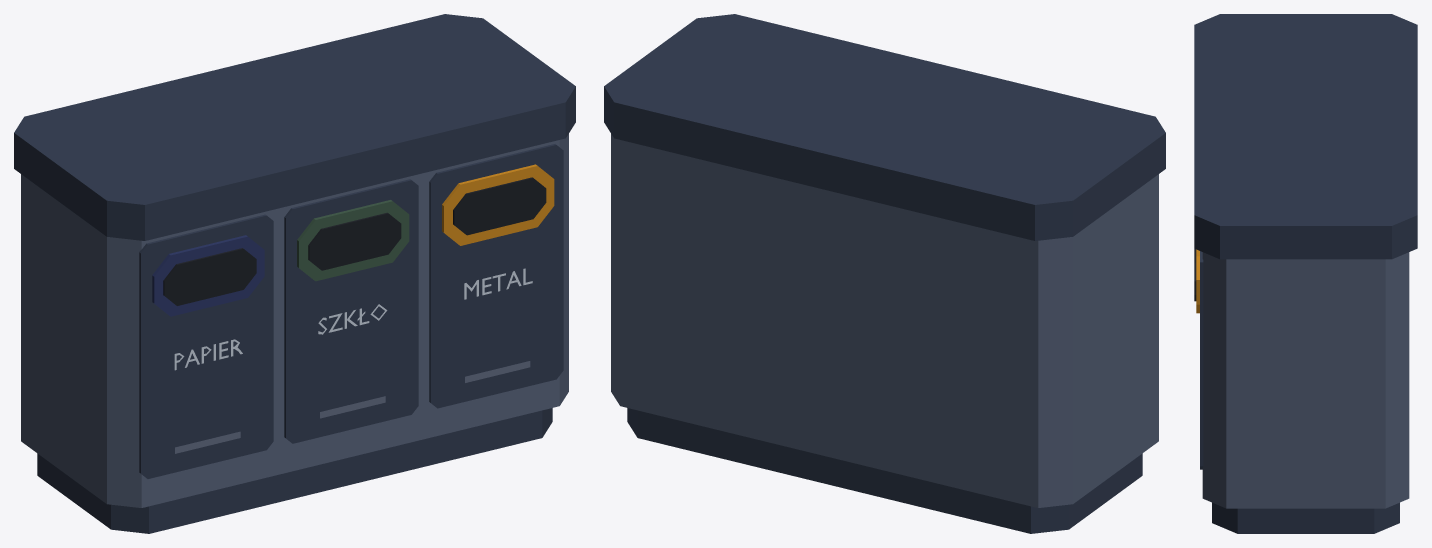
File: mall_trash_bin.glb
3 views of the same model, side by side, from view 1: azimuth 30°, elevation 25°; view 2: azimuth 150°, elevation 25°; view 3: azimuth 270°, elevation 25° (orthographic). The views are drawn at different scales.
Visible parts, largest first — view 1: bin_door, steel_shell, deposit_slot, deposit_rim, deposit_rim.001, deposit_rim.002, lettering, hinge; view 2: steel_shell, bin_door; view 3: bin_door, steel_shell.
Part boxes in pixels (x1,y1,x2,y2): bin_door: (14, 14, 575, 533); steel_shell: (21, 134, 568, 507); deposit_slot: (163, 177, 546, 305); deposit_rim: (152, 235, 264, 316); deposit_rim.001: (297, 200, 409, 281); deposit_rim.002: (442, 164, 554, 245); lettering: (174, 268, 532, 370); hinge: (175, 361, 530, 453); steel_shell: (611, 134, 1158, 507); bin_door: (604, 14, 1165, 533); bin_door: (1194, 14, 1417, 533); steel_shell: (1202, 252, 1409, 508).
Bounding box in the file's own units: 1.36 × 0.94 × 0.606.
